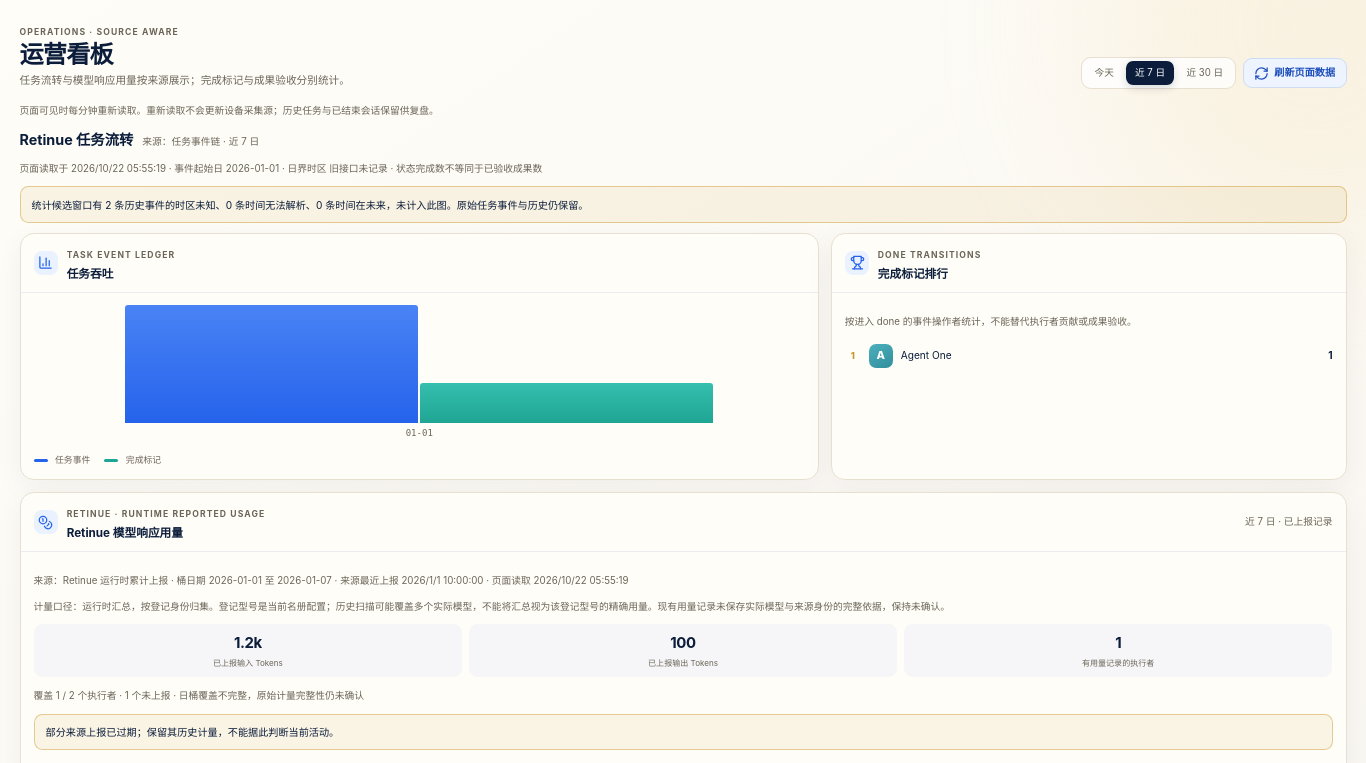
Test case: 运营来源、计量与统一入口 › keeps one title/range and distinct sources, and does not add Hermes to Retinue
This screenshot has width=1366, height=763.
Expected: the number of buttons "今天" is 1, 1085,61 -> 1123,85
Expected: the text "1.2k" is shown, 234,634 -> 262,652
Click the button "近 30 日" at (1205, 73), box 1177,61 -> 1232,85
(page scrolled)
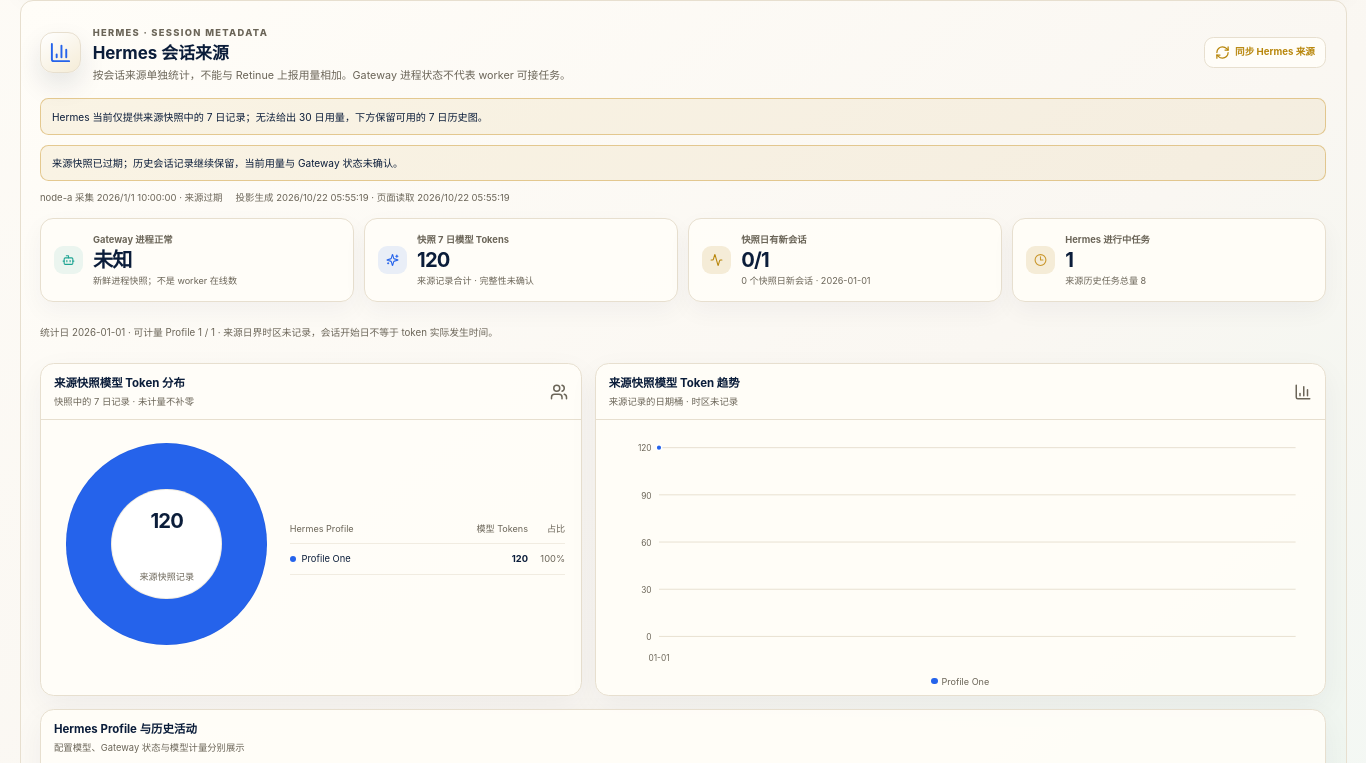
Expected: the heading "来源快照模型 Token 趋势" is shown, 609,375 -> 740,393
Expected: the text "Hermes 当前仅提供来源快照中的 7 日记录；无法给出 30 日用量，下方保留可用的 7 日历史图。" is shown, 40,98 -> 1326,135
